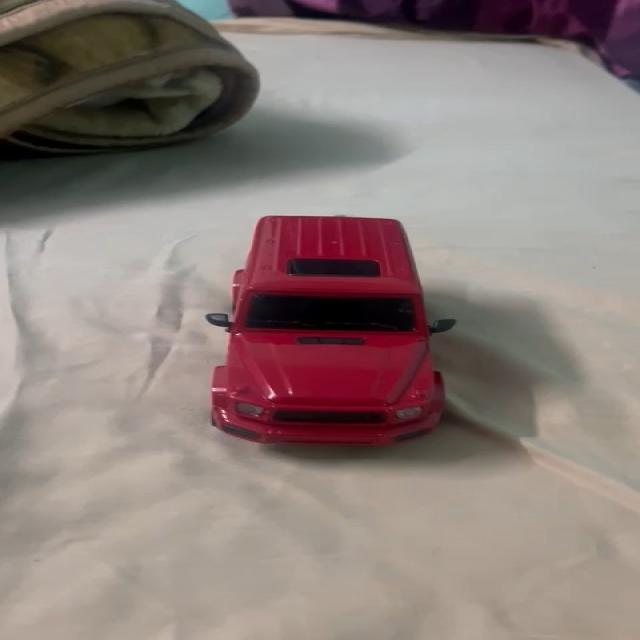light_vehicle: (214, 210, 460, 448)
